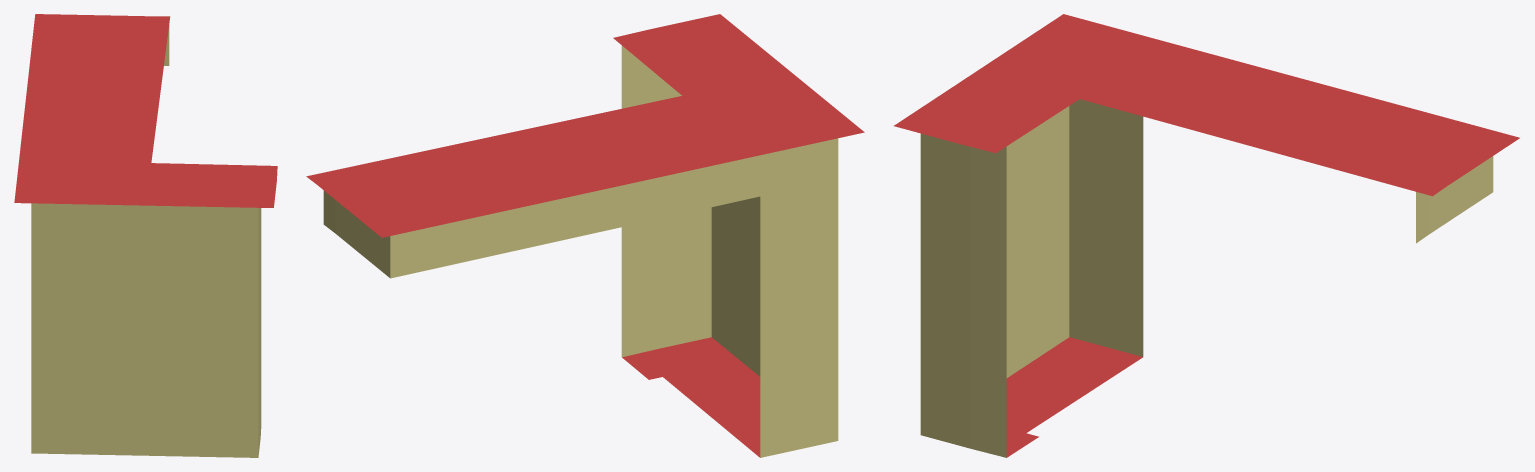
3 renders of one model, left to right at view 1: azimuth 30°, elevation 25°; view 2: azimuth 150°, elevation 25°; view 3: azimuth 270°, elevation 25°, orthographic. The views are drawn at different scales.
Visible parts, largest first — view 1: group_5, group_3; view 2: group_5, group_3, group_6; view 3: group_5, group_3, group_6.
Part boxes in pixels (bbox=[...]): group_5: bbox=[31, 25, 261, 457]; group_3: bbox=[14, 14, 277, 207]; group_5: bbox=[323, 45, 838, 457]; group_3: bbox=[306, 14, 864, 237]; group_6: bbox=[622, 337, 760, 457]; group_5: bbox=[920, 99, 1493, 457]; group_3: bbox=[894, 14, 1519, 196]; group_6: bbox=[1006, 337, 1142, 457].
Bounding box in the file's own units: 10.97 × 15.95 × 8.74.
